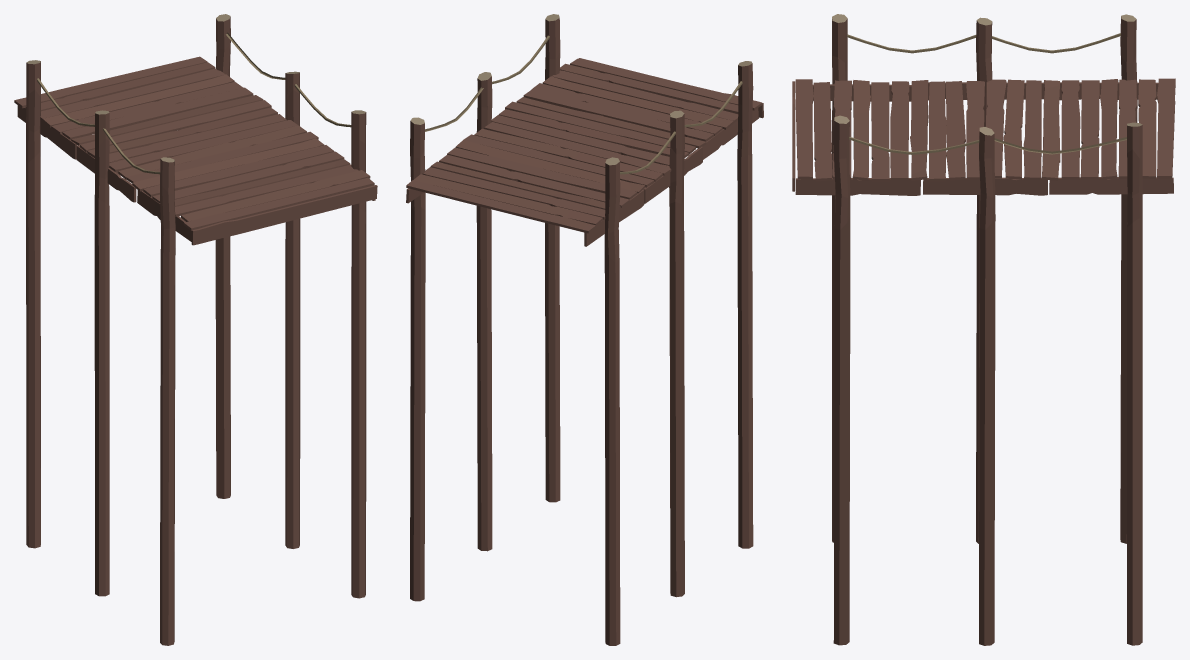
File: dock-rope-tall.glb
3 renders of one model, left to right at view 1: azimuth 30°, elevation 25°; view 2: azimuth 150°, elevation 25°; view 3: azimuth 270°, elevation 25°, orthographic. The views are drawn at different scales.
Parts seen in each view (by area): view 1: Dock_Wide; view 2: Dock_Wide; view 3: Dock_Wide.
Part boxes in pixels (box(x1,y1,x2,y2)): Dock_Wide: box(14, 14, 377, 645); Dock_Wide: box(406, 14, 763, 645); Dock_Wide: box(792, 14, 1175, 645).
Bounding box in the file's own units: 14.63 × 32.68 × 21.69.
